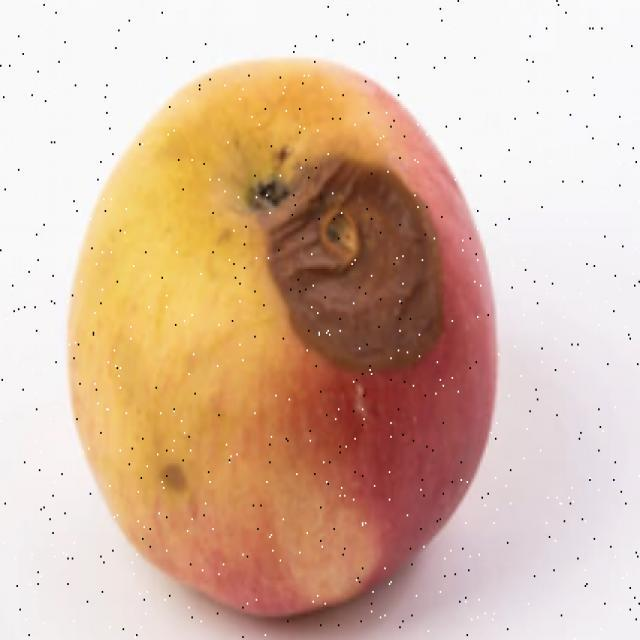Rotten: (80, 70, 520, 622)
